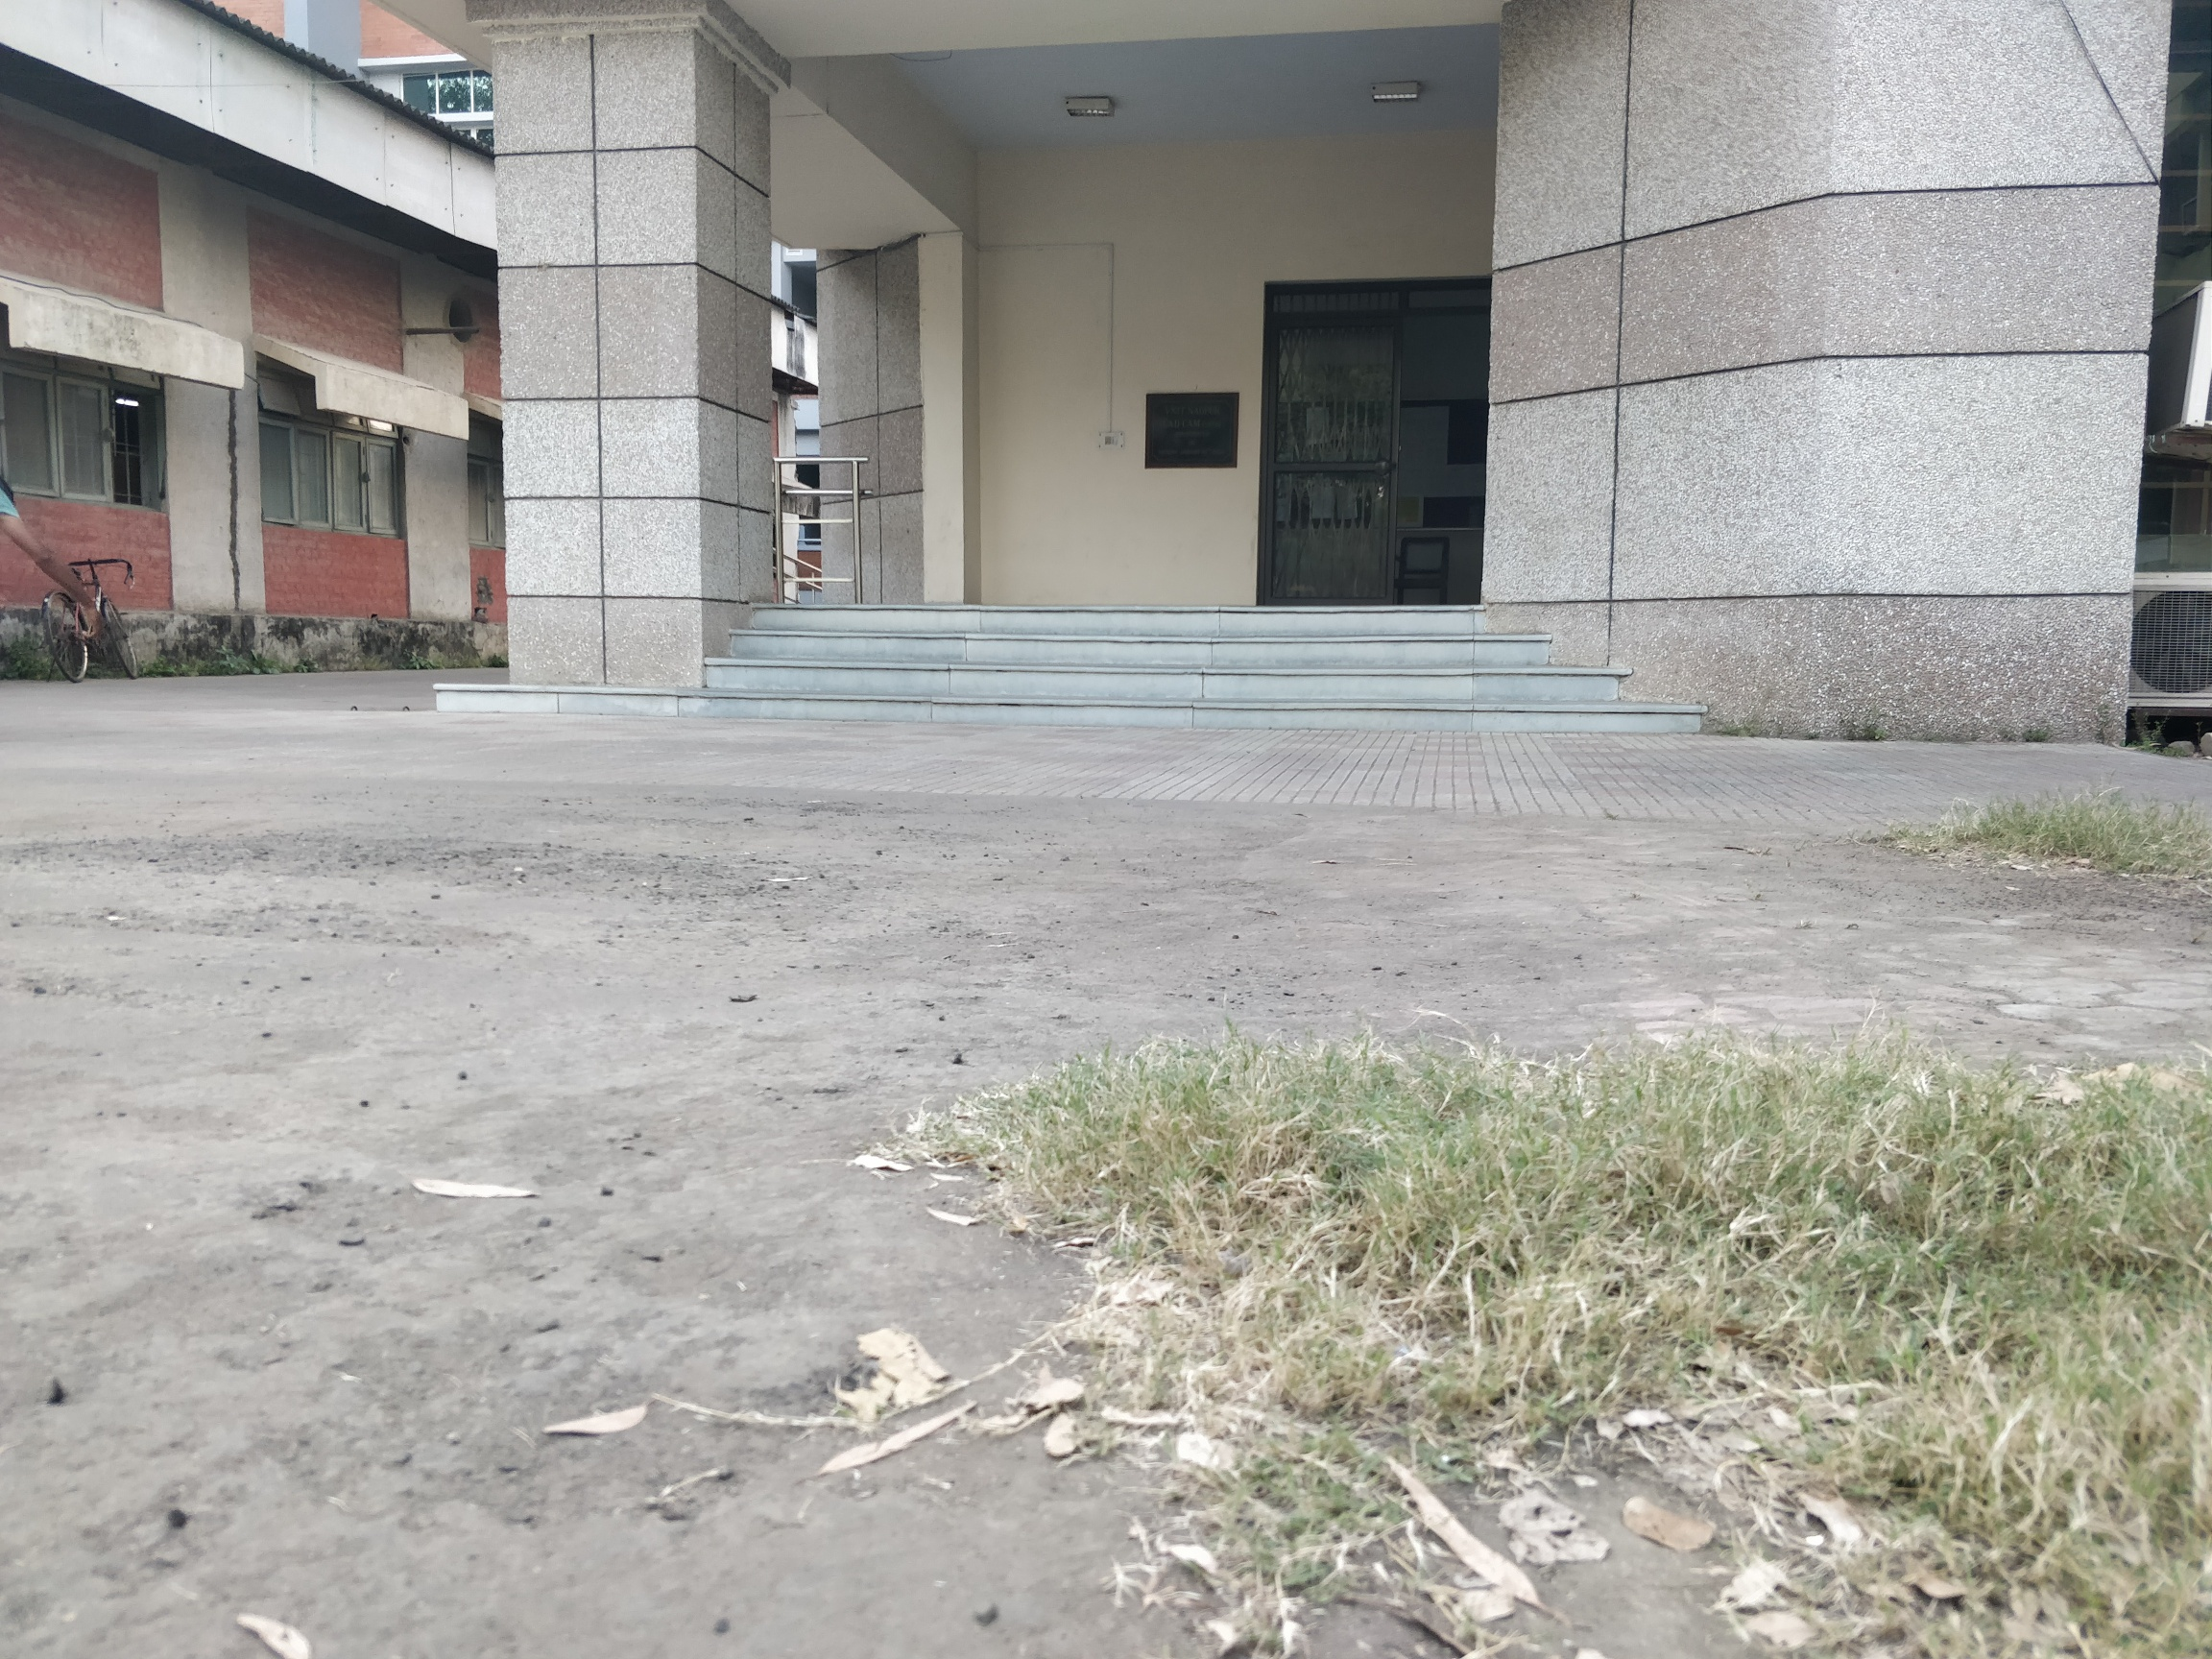stairs_up: (707, 584, 1613, 742)
